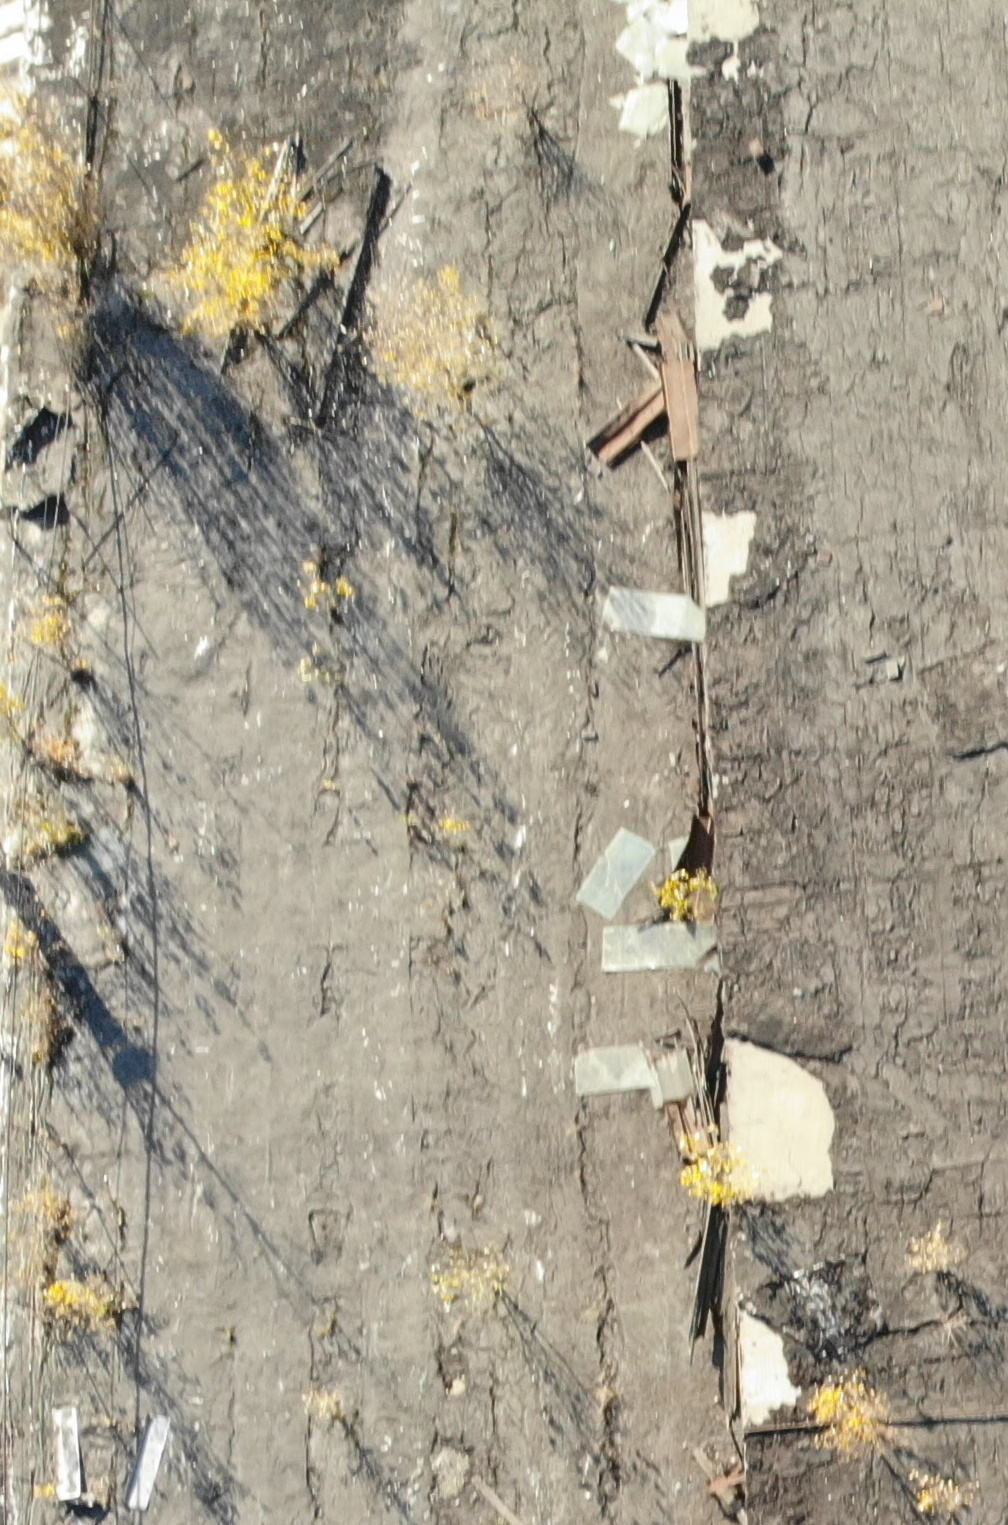tree: (157, 78, 337, 376), (13, 79, 121, 379), (37, 1176, 153, 1373), (387, 260, 508, 446), (261, 508, 361, 682), (795, 1350, 909, 1486), (424, 1215, 529, 1350), (638, 828, 732, 965), (886, 1202, 971, 1308), (666, 1131, 751, 1221)
